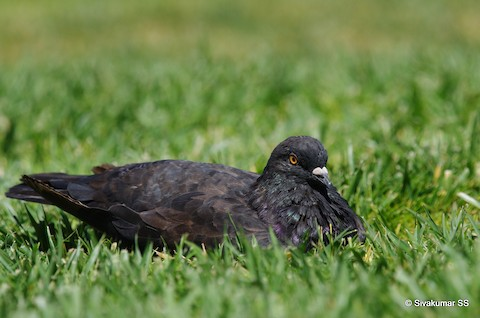pigeon: (5, 125, 372, 267)
